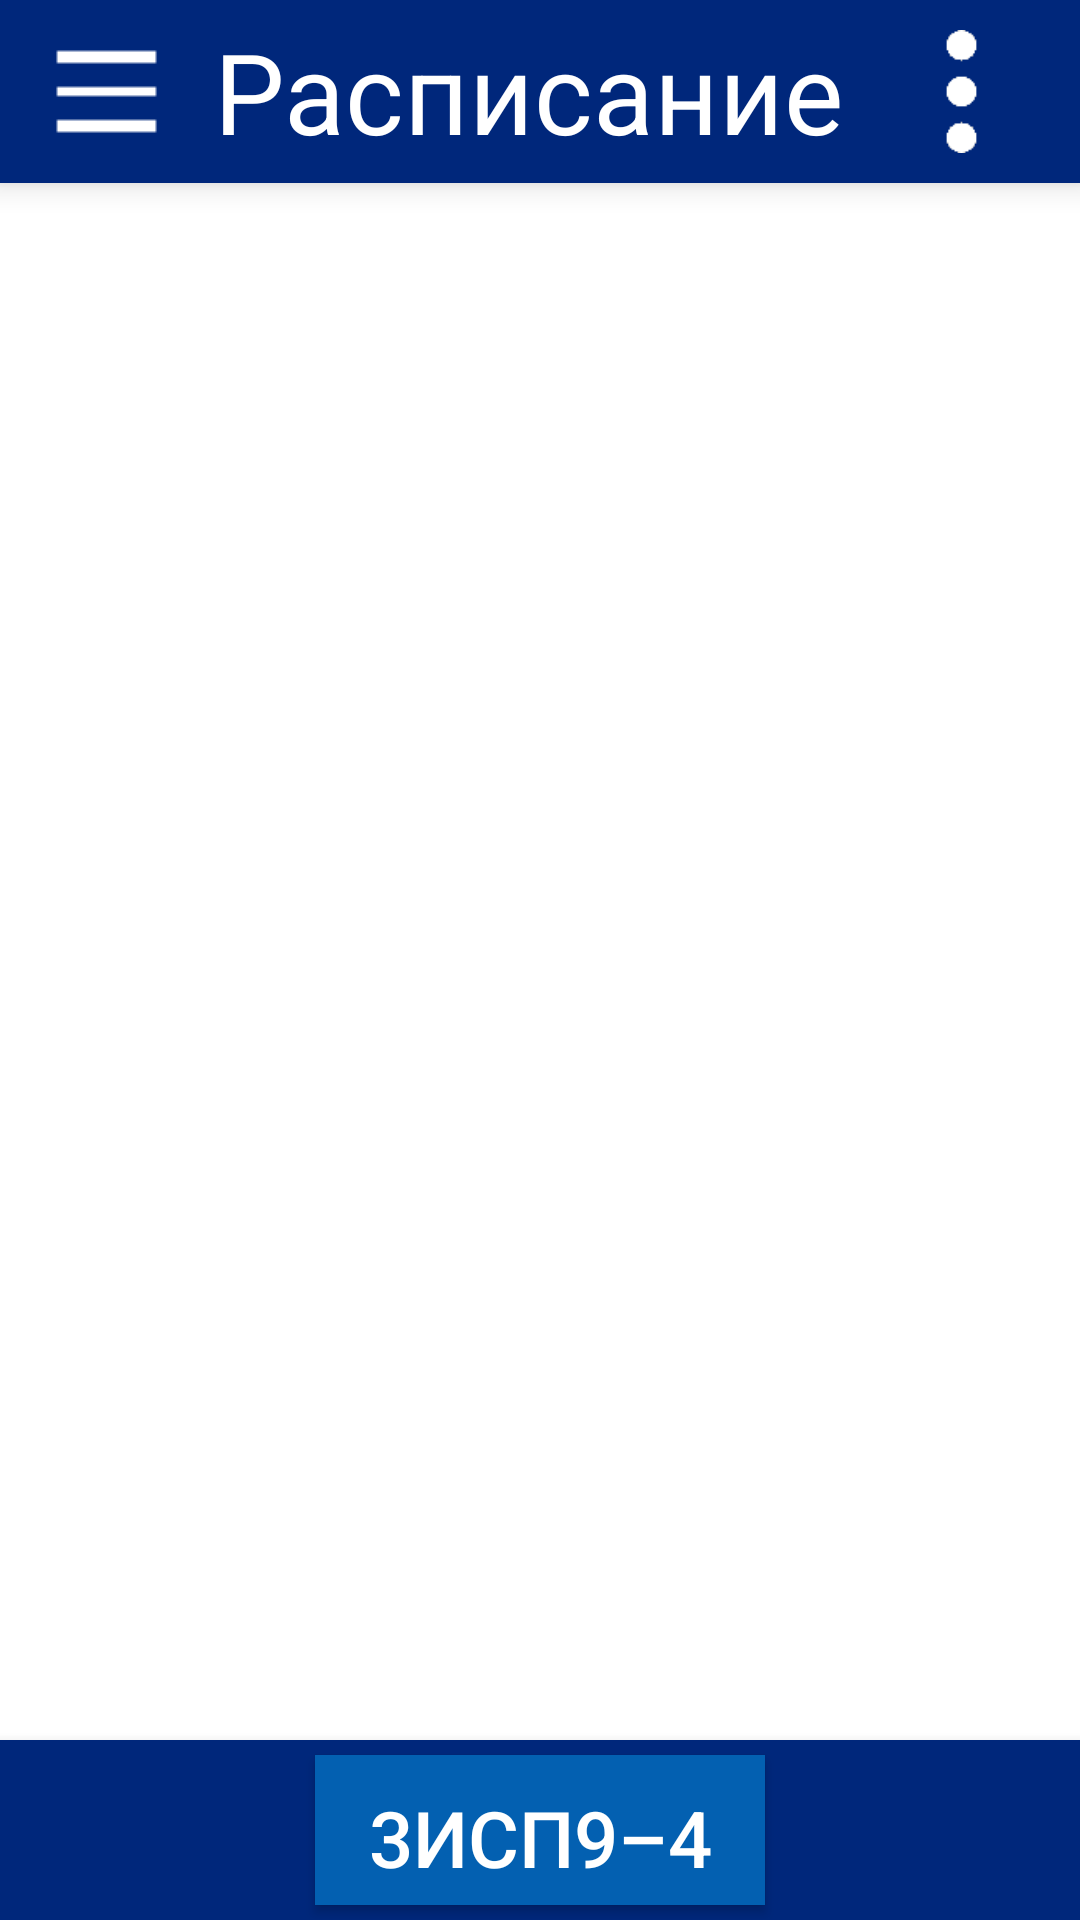

Icons on this 1080px×1920px Android screen, each with its box as (x1, y1, x2, y2):
leftmenuicon: (56, 50, 157, 133)
